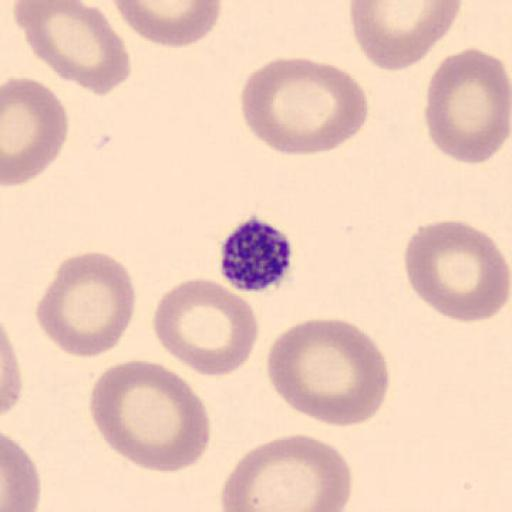Platelet: (218, 214, 296, 294)
RBC: (88, 358, 212, 476), (265, 317, 391, 428), (239, 56, 370, 157), (402, 218, 511, 324), (34, 250, 137, 360), (14, 0, 130, 97), (151, 276, 261, 378), (219, 433, 354, 512), (423, 45, 511, 165), (350, 0, 464, 72), (2, 76, 69, 188), (110, 0, 223, 48), (1, 431, 42, 512), (0, 322, 24, 422)
